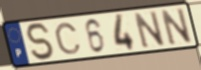4: (112, 12, 137, 52)
6: (84, 17, 107, 54)
C: (53, 21, 83, 56)
N: (132, 9, 168, 50), (159, 6, 194, 47)
S: (24, 21, 57, 62)
